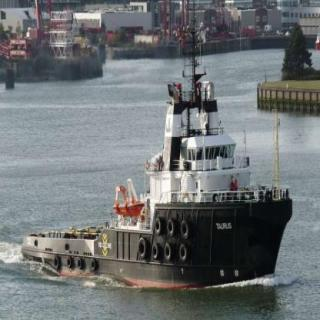Tug Boat: (20, 55, 296, 290)
